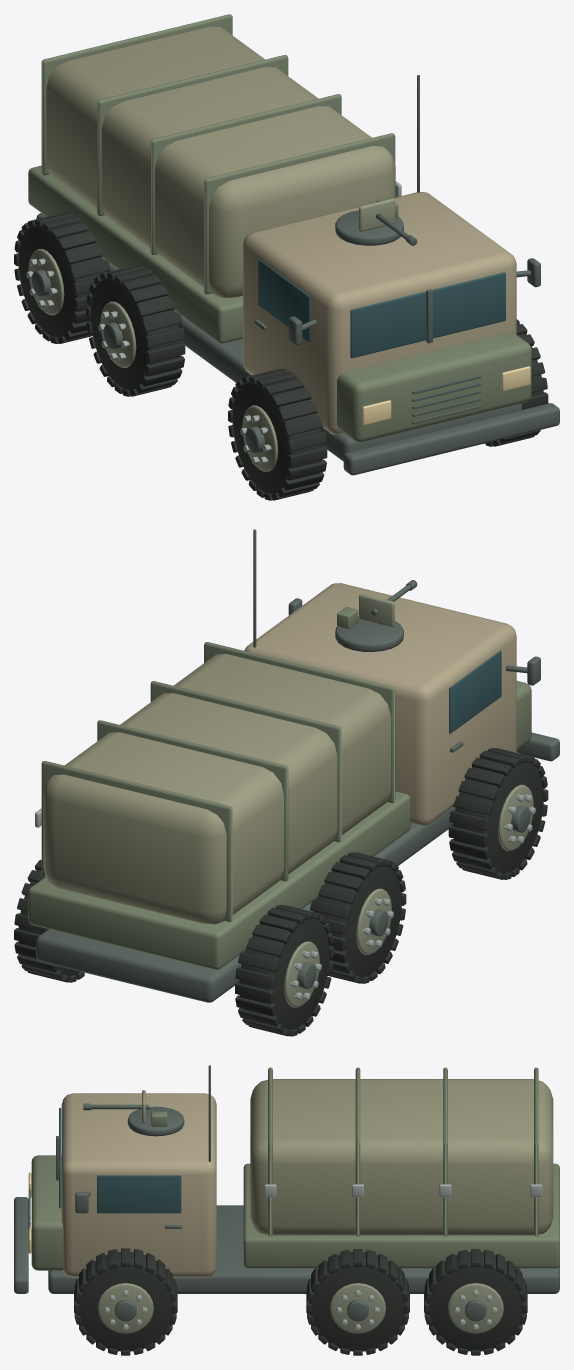
File: nomad.glb
The picture shows the model from 3 angles, top to bottom: view 1: azimuth 30°, elevation 25°; view 2: azimuth 150°, elevation 25°; view 3: azimuth 270°, elevation 25°; orthographic projection. The views are drawn at different scales.
Visible parts, largest first — view 1: Canvas load, Nomad_Field_olive, Armored cab, Nomad_Gun_steel, Nomad_Glass, WheelL0_Rubber, WheelL1_Rubber, WheelL2_Rubber, WheelR0_Rubber, Turret ring, Nomad_Lamp, Rim.002 (+3 smaller); view 2: Canvas load, Nomad_Field_olive, Armored cab, Nomad_Gun_steel, WheelL0_Rubber, WheelL2_Rubber, WheelL1_Rubber, Nomad_Glass, WheelR2_Rubber, Turret ring, Rim.001, Rim (+2 smaller); view 3: Canvas load, Armored cab, Nomad_Field_olive, Nomad_Gun_steel, WheelR0_Rubber, WheelR2_Rubber, WheelR1_Rubber, Nomad_Glass, Rim.003, Rim.005, Rim.004, Turret ring (+5 smaller).
Boxes of the visible parts, box(x1,y1,x2,y2) form: Canvas load: box(46, 26, 395, 298); Nomad_Field_olive: box(28, 14, 531, 442); Armored cab: box(243, 192, 516, 434); Nomad_Gun_steel: box(36, 75, 559, 475); Nomad_Glass: box(258, 259, 505, 358); WheelL0_Rubber: box(228, 368, 327, 500); WheelL1_Rubber: box(86, 265, 185, 396); WheelL2_Rubber: box(14, 212, 110, 343); WheelR0_Rubber: box(483, 319, 548, 446); Turret ring: box(335, 210, 403, 245); Nomad_Lamp: box(362, 366, 530, 425); Rim.002: box(28, 249, 64, 315); Canvas load: box(43, 654, 395, 924); Nomad_Field_olive: box(28, 642, 531, 969); Armored cab: box(244, 583, 516, 826); Nomad_Gun_steel: box(36, 529, 559, 1002); WheelL0_Rubber: box(448, 748, 548, 879); WheelL2_Rubber: box(235, 905, 334, 1036); WheelL1_Rubber: box(310, 852, 406, 983); Nomad_Glass: box(449, 650, 501, 733); WheelR2_Rubber: box(14, 859, 84, 982); Turret ring: box(335, 617, 403, 651); Rim.001: box(356, 888, 391, 954); Rim: box(498, 784, 533, 850); Canvas load: box(250, 1079, 553, 1235); Armored cab: box(61, 1093, 216, 1277); Nomad_Field_olive: box(31, 1067, 559, 1270); Nomad_Gun_steel: box(14, 1065, 559, 1293); WheelR0_Rubber: box(74, 1248, 177, 1355); WheelR2_Rubber: box(424, 1249, 527, 1355); WheelR1_Rubber: box(306, 1249, 409, 1355); Nomad_Glass: box(59, 1107, 181, 1213); Rim.003: box(97, 1283, 153, 1333); Rim.005: box(448, 1283, 503, 1333); Rim.004: box(330, 1283, 385, 1333); Turret ring: box(127, 1106, 184, 1136).
Bounding box in the file's own units: 3.83 × 4.45 × 8.11.
